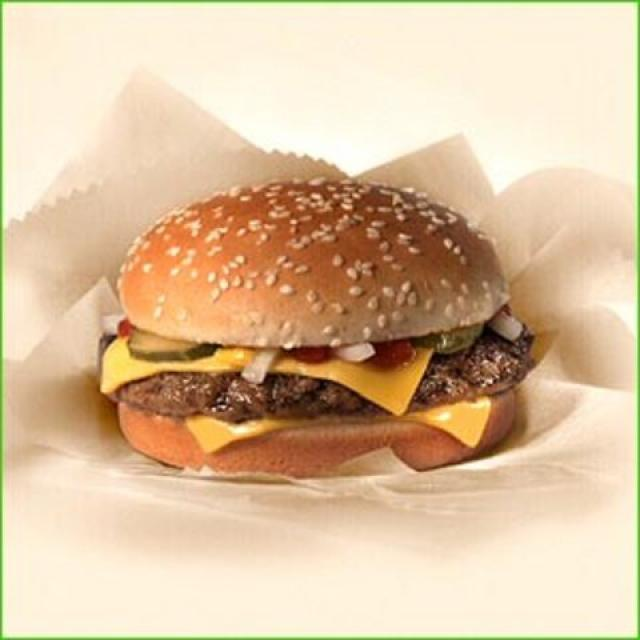Hamburger: (99, 179, 542, 485)
